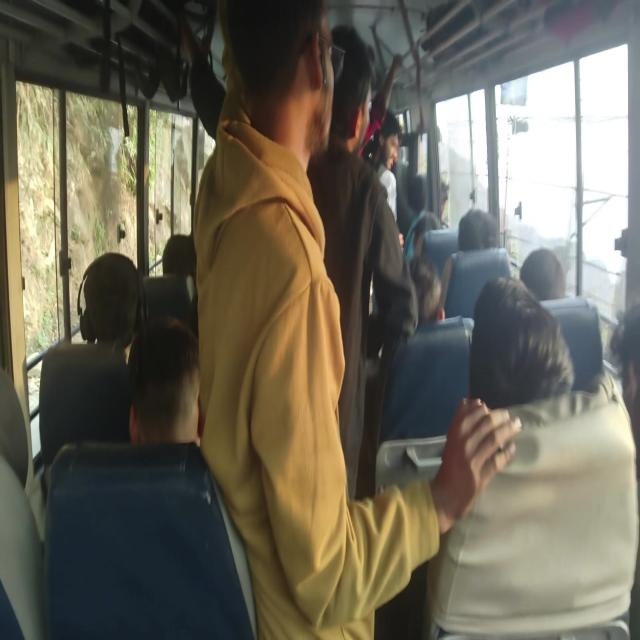person: (102, 336, 230, 489), (474, 276, 571, 429), (234, 16, 322, 179), (516, 233, 606, 340), (68, 228, 149, 333), (323, 41, 391, 147), (0, 381, 53, 485), (400, 247, 444, 335), (604, 288, 640, 386), (408, 166, 462, 221), (453, 196, 484, 252), (169, 223, 204, 272), (379, 118, 400, 154)
